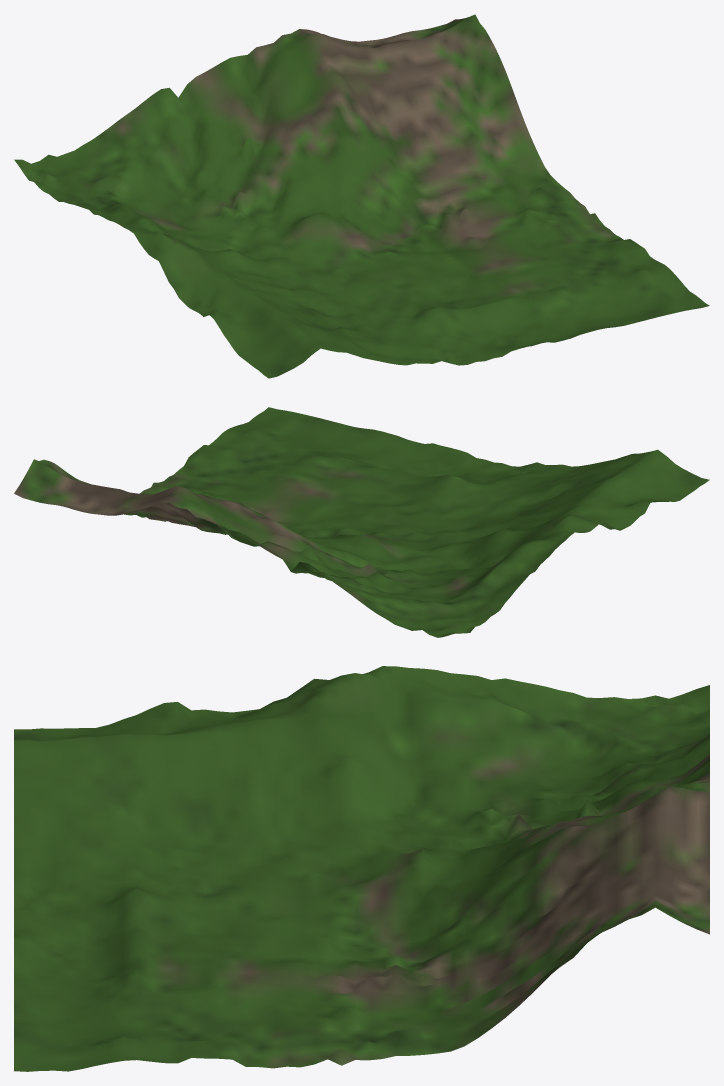
The model's file is chunk8-6_LOD0.obj.
3 renders of one model, top to bottom at view 1: azimuth 30°, elevation 25°; view 2: azimuth 150°, elevation 25°; view 3: azimuth 270°, elevation 25°, orthographic. The views are drawn at different scales.
Parts seen in each view (by area): view 1: chunk_8_6_LOD0; view 2: chunk_8_6_LOD0; view 3: chunk_8_6_LOD0.
Part boxes in pixels (x1=…): chunk_8_6_LOD0: x1=14, y1=14, x2=709, y2=378; chunk_8_6_LOD0: x1=14, y1=407, x2=709, y2=637; chunk_8_6_LOD0: x1=14, y1=666, x2=709, y2=1071.
Bounding box in the file's own units: 1994 × 596 × 1994.
Materials: 1 (1 with a texture image).
